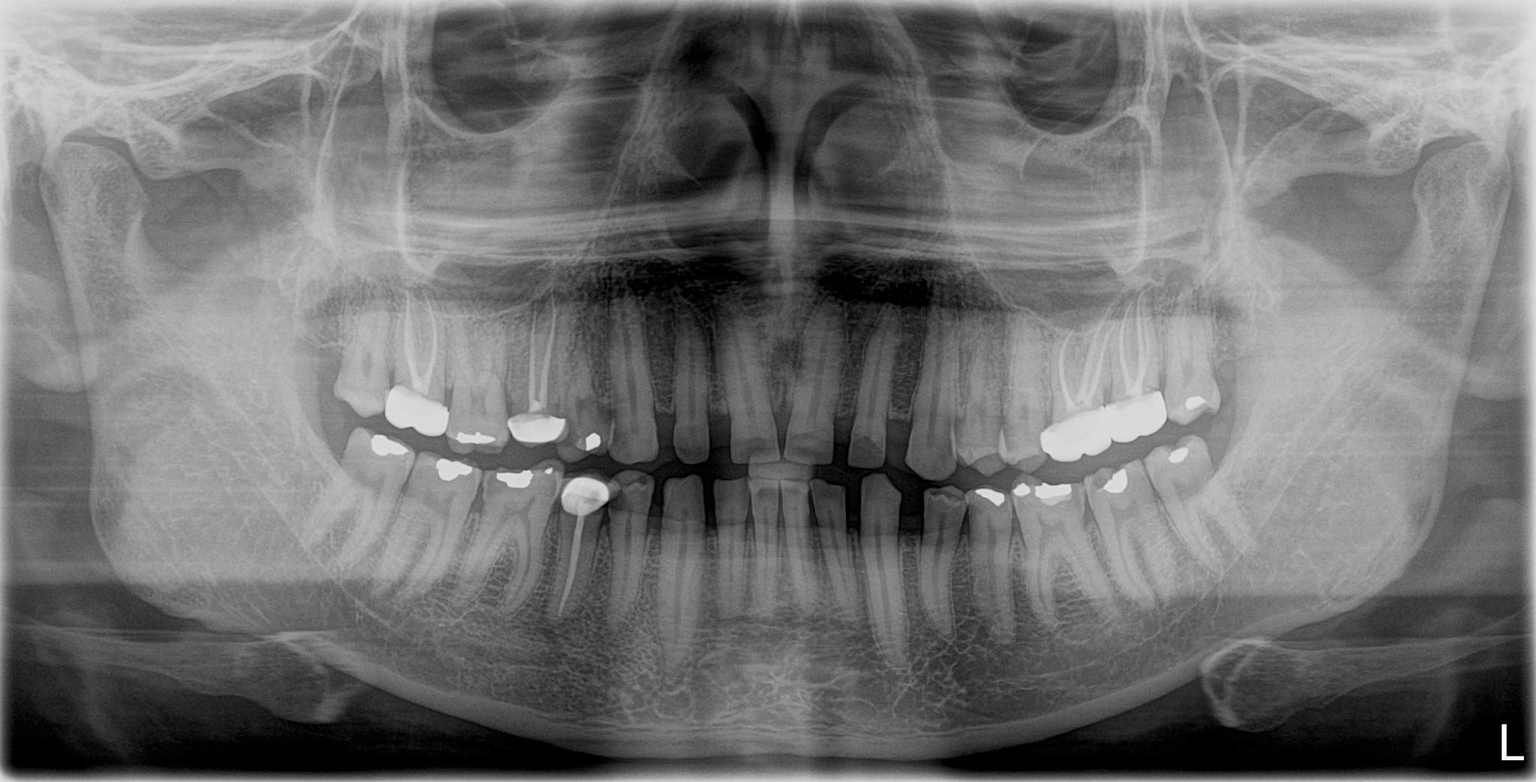Dental Caries: (572, 392, 614, 453)
Endodontically Treated Tooth: (386, 300, 451, 429), (551, 470, 605, 618), (513, 306, 566, 445), (1054, 322, 1103, 459), (1110, 307, 1157, 444)
